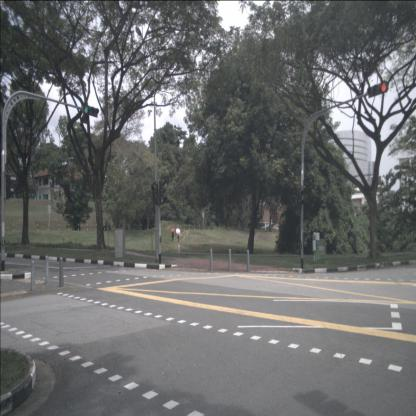human-pedestrian-adult: (171, 228, 176, 243), (176, 228, 180, 243)
vehicle-car: (261, 223, 282, 237)
